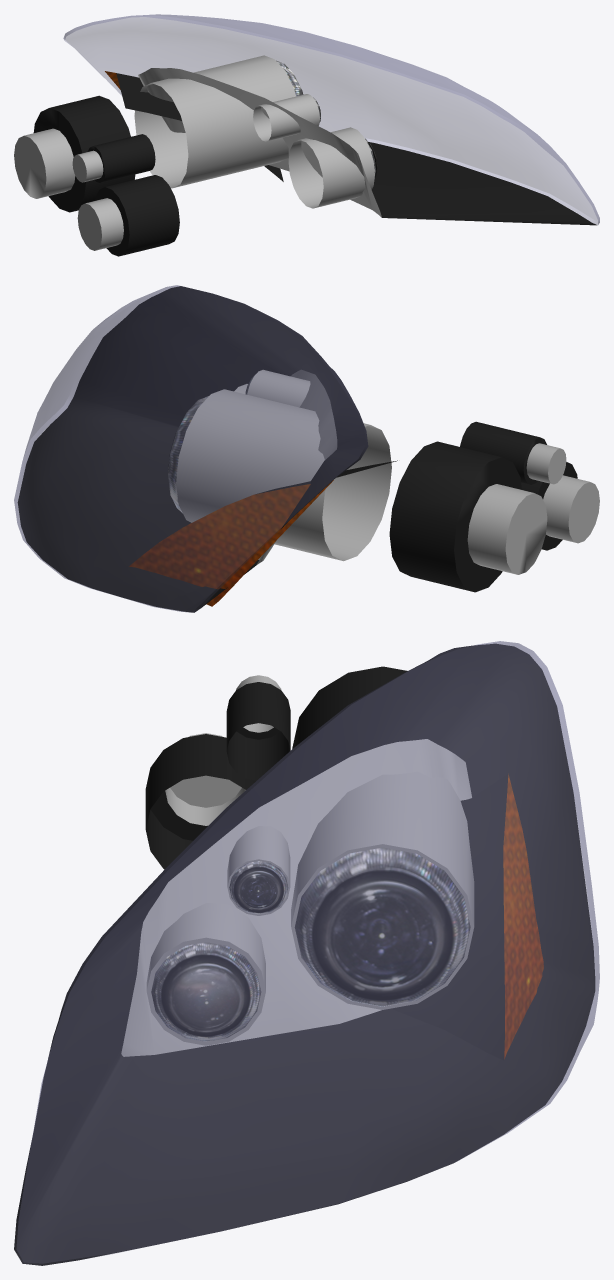
3 renders of one model, top to bottom at view 1: azimuth 30°, elevation 25°; view 2: azimuth 150°, elevation 25°; view 3: azimuth 270°, elevation 25°, orthographic. The views are drawn at different scales.
Visible parts, largest first — view 1: Z186_061B_L_Z186_061B_L_2_DTaSI, Z186_061B_L_Z186_061B_L_7_DaS, Z186_061B_L_Z186_061B_L_6_D; view 2: Z186_061B_L_Z186_061B_L_2_DTaSI, Z186_061B_L_Z186_061B_L_6_D, Z186_061B_L_Z186_061B_L_7_DaS, Z186_061B_L_1_N_Z186_061B_L, Z186_061B_L_Z186_061B_L_3_N; view 3: Z186_061B_L_Z186_061B_L_2_DTaSI, Z186_061B_L_Z186_061B_L_6_D, Z186_061B_L_Z186_061B_L_7_DaS, Z186_061B_L_Z186_061B_L_3_N, Z186_061B_L_Z186_061B_L_5_N, Z186_061B_L_1_N_Z186_061B_L, Z186_061B_L_Z186_061B_L_4_N.
Boxes of the visible parts, x1,y1,x2,y2 form: Z186_061B_L_Z186_061B_L_2_DTaSI: [63, 14, 599, 224]; Z186_061B_L_Z186_061B_L_7_DaS: [14, 55, 381, 250]; Z186_061B_L_Z186_061B_L_6_D: [33, 73, 596, 256]; Z186_061B_L_Z186_061B_L_2_DTaSI: [14, 285, 367, 612]; Z186_061B_L_Z186_061B_L_6_D: [17, 286, 577, 612]; Z186_061B_L_Z186_061B_L_7_DaS: [176, 369, 599, 574]; Z186_061B_L_1_N_Z186_061B_L: [129, 480, 333, 606]; Z186_061B_L_Z186_061B_L_3_N: [168, 396, 208, 512]; Z186_061B_L_Z186_061B_L_2_DTaSI: [14, 641, 599, 1265]; Z186_061B_L_Z186_061B_L_6_D: [14, 643, 595, 1265]; Z186_061B_L_Z186_061B_L_7_DaS: [121, 675, 474, 1056]; Z186_061B_L_Z186_061B_L_3_N: [295, 847, 470, 1006]; Z186_061B_L_Z186_061B_L_5_N: [151, 942, 261, 1041]; Z186_061B_L_1_N_Z186_061B_L: [503, 774, 543, 1058]; Z186_061B_L_Z186_061B_L_4_N: [229, 861, 288, 914].
Size of the model in its own units: 55.69 by 23.09 by 35.94.
